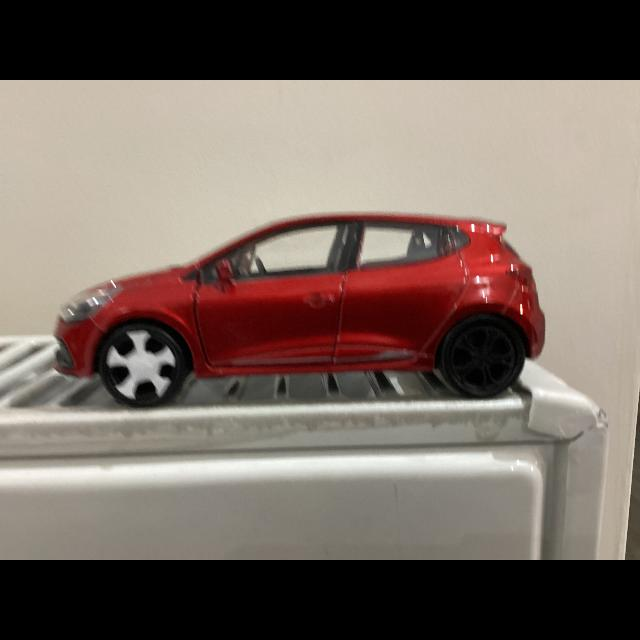Dogru_Jant: (450, 326, 516, 390)
Yanlis_Jant: (104, 330, 176, 402)
